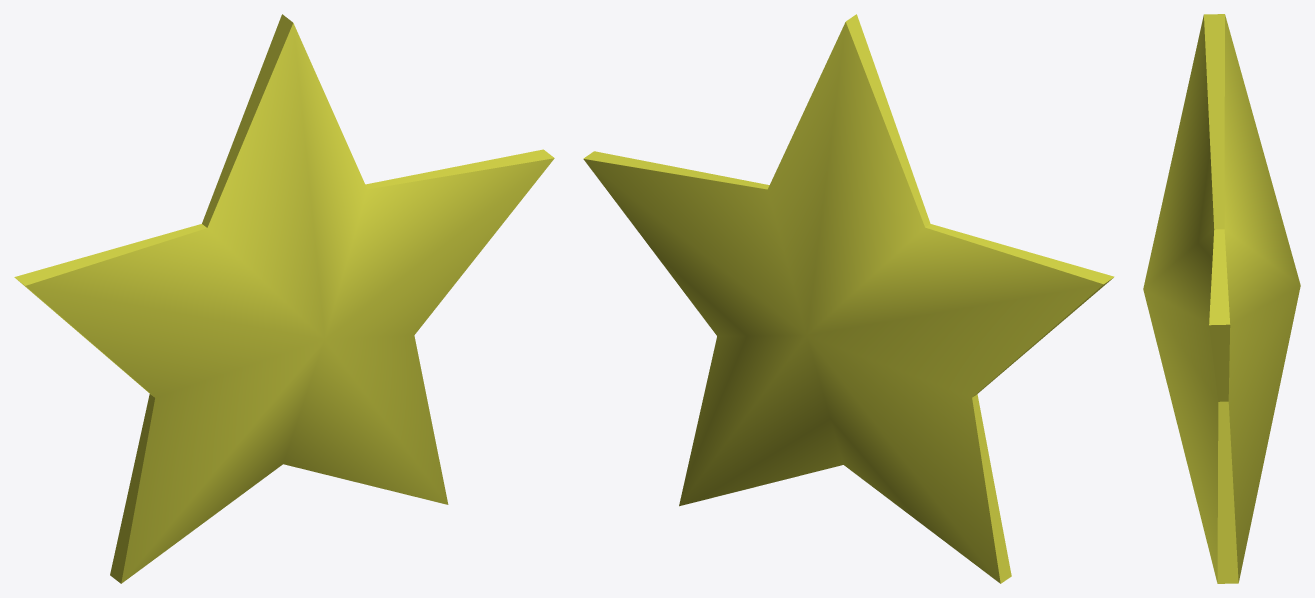
The model's file is CollectableStarModelCorrectedPivot.fbx.
3 renders of one model, left to right at view 1: azimuth 30°, elevation 25°; view 2: azimuth 150°, elevation 25°; view 3: azimuth 270°, elevation 25°, orthographic. The views are drawn at different scales.
Parts seen in each view (by area): view 1: pCylinder1; view 2: pCylinder1; view 3: pCylinder1.
Part boxes in pixels (bbox=[...]): pCylinder1: bbox=[14, 14, 554, 583]; pCylinder1: bbox=[583, 14, 1114, 583]; pCylinder1: bbox=[1143, 14, 1300, 583].
Size of the model in its own units: 1.9 by 1.81 by 0.522.
